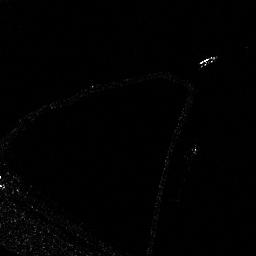ship: (198, 54, 218, 66)
